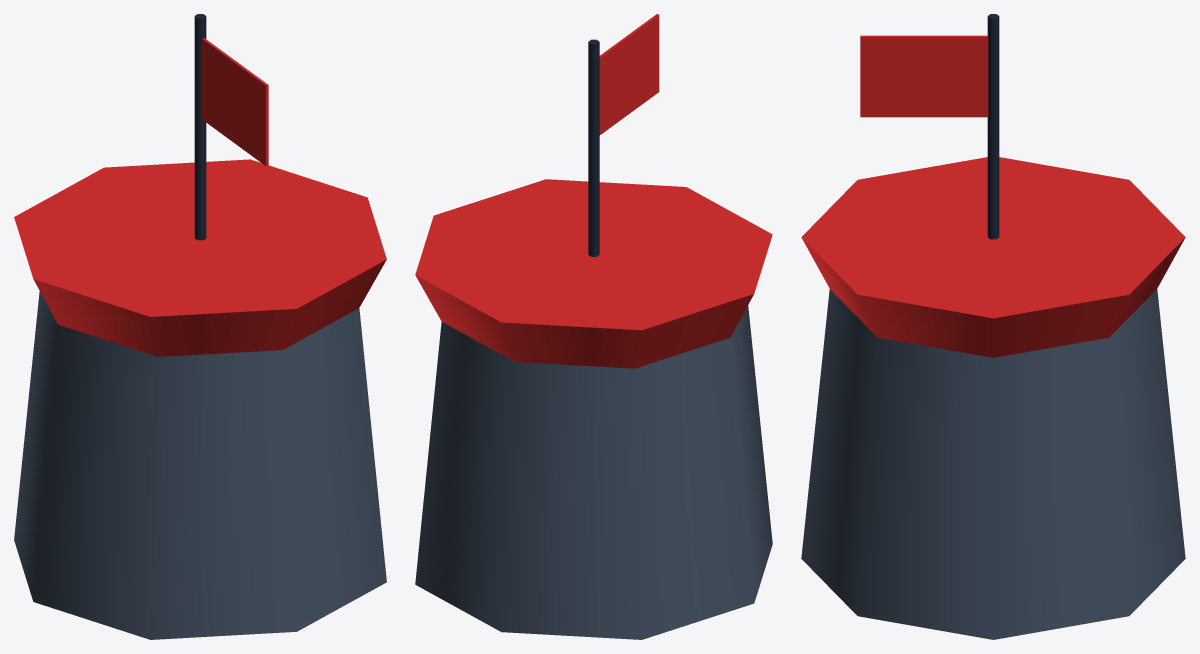
The model's file is alliance_outpost.glb.
3 renders of one model, left to right at view 1: azimuth 30°, elevation 25°; view 2: azimuth 150°, elevation 25°; view 3: azimuth 270°, elevation 25°, orthographic. The views are drawn at different scales.
Parts seen in each view (by area): view 1: Alliance_Outpost; view 2: Alliance_Outpost; view 3: Alliance_Outpost.
Boxes of the visible parts, box(x1,y1,x2,y2) form: Alliance_Outpost: box(14, 14, 386, 639); Alliance_Outpost: box(415, 14, 772, 639); Alliance_Outpost: box(801, 14, 1185, 639).
Size of the model in its own units: 5.2 by 8.1 by 5.2.
